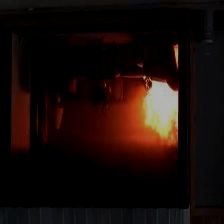fire: (135, 79, 187, 144)
smoke: (4, 133, 189, 207)
